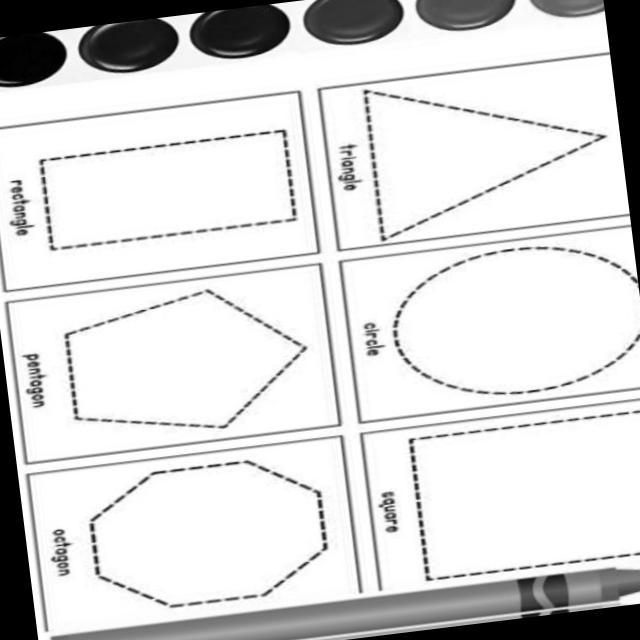circle: (367, 240, 640, 402)
square: (391, 405, 640, 583), (23, 126, 316, 249)
triangle: (347, 85, 611, 251)
